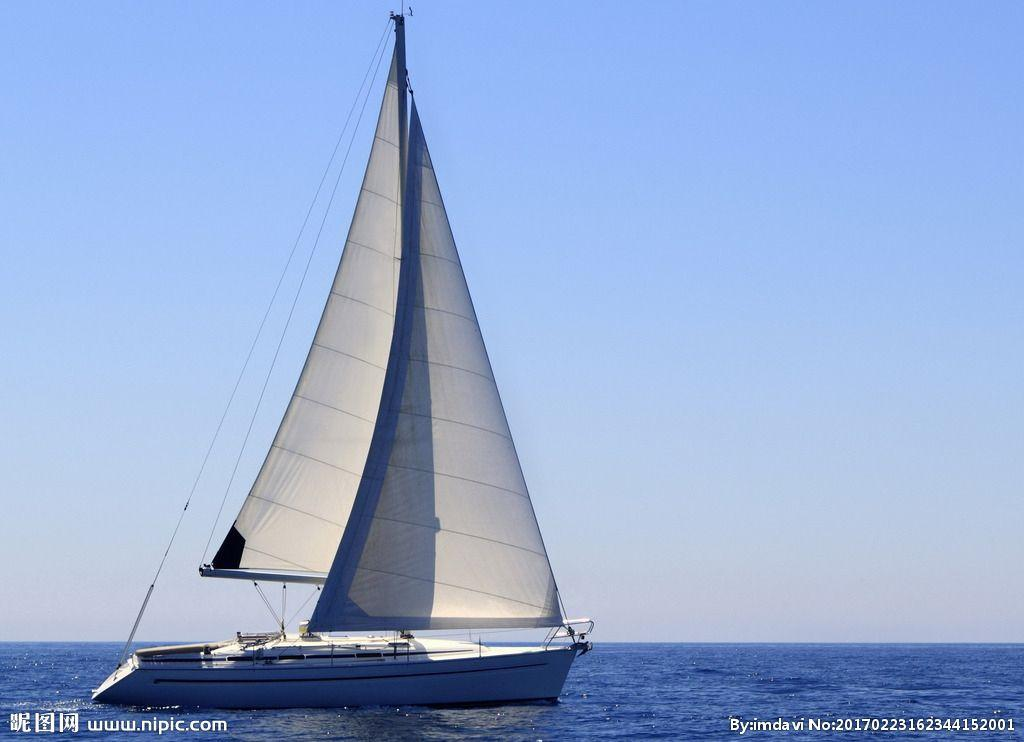fanchuan: (80, 1, 594, 704)
